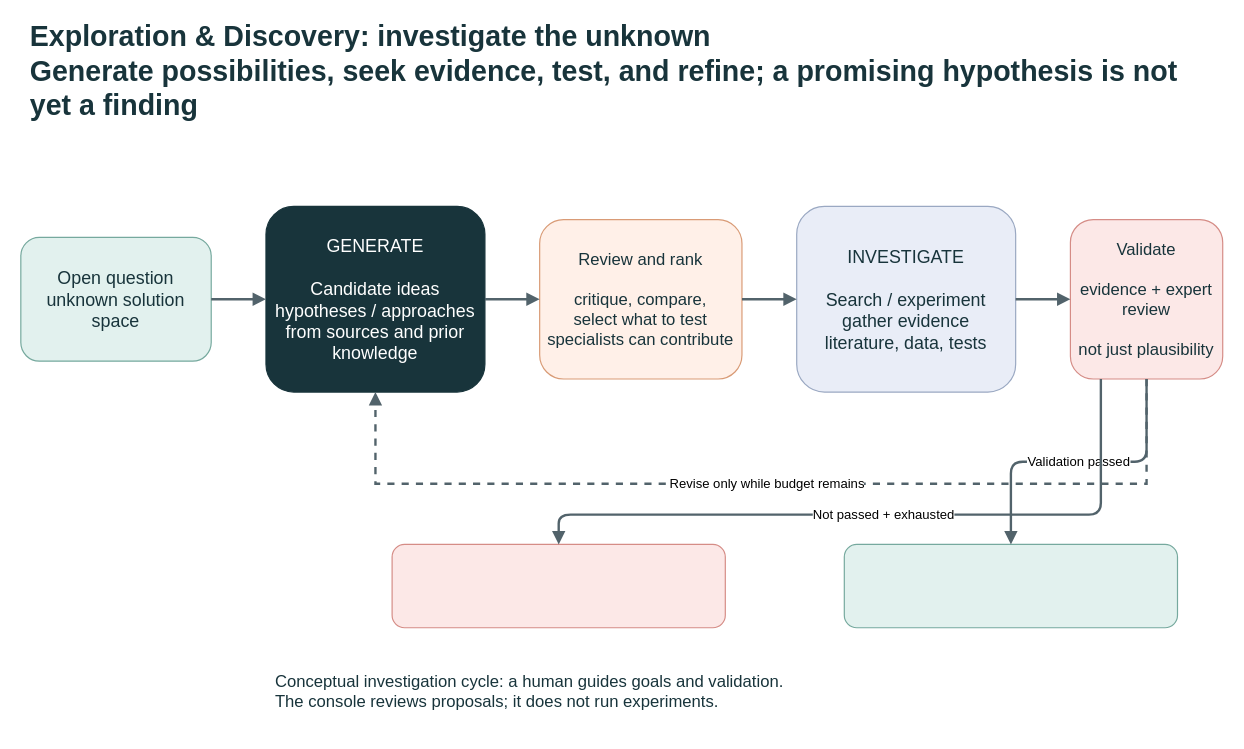
Some shapes in this 1244 by 749 pixel diagram are drawn without their labels. The box of each missing label's shape, as (x1, y1, x2, y2) in pixels:
Accepted findings or explicitly unvalidated proposal: (843, 543, 1178, 628)
Incomplete budget exhausted / unresolved gaps: (391, 543, 725, 628)
